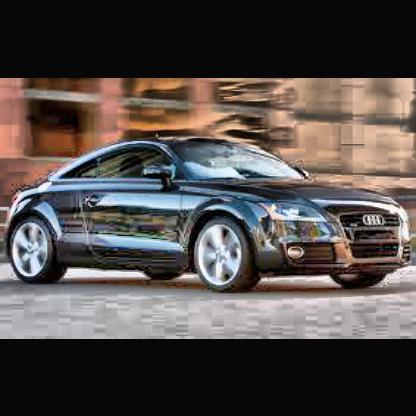Audi TT Hatchback 2011: (5, 136, 413, 297)
